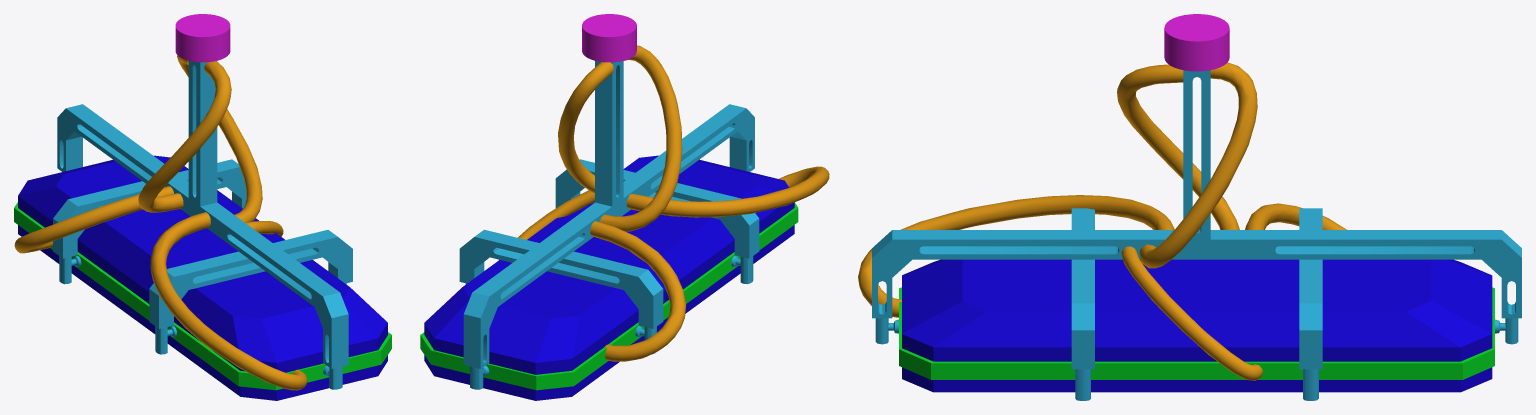
File: Lamp.fbx
3 renders of one model, left to right at view 1: azimuth 30°, elevation 25°; view 2: azimuth 150°, elevation 25°; view 3: azimuth 270°, elevation 25°, orthographic. The views are drawn at different scales.
Parts seen in each view (by area): view 1: Lamp; view 2: Lamp; view 3: Lamp.
Boxes of the visible parts, x1=… form: Lamp: x1=14, y1=14, x2=391, y2=400; Lamp: x1=420, y1=14, x2=829, y2=400; Lamp: x1=858, y1=14, x2=1521, y2=400.
Size of the model in its own units: 326 by 378 by 707.
